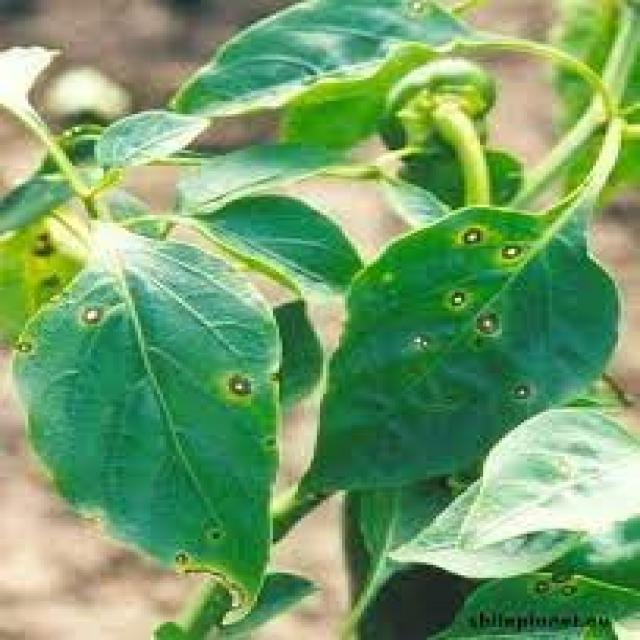bercak_daun: (9, 228, 320, 640), (318, 203, 618, 497)
